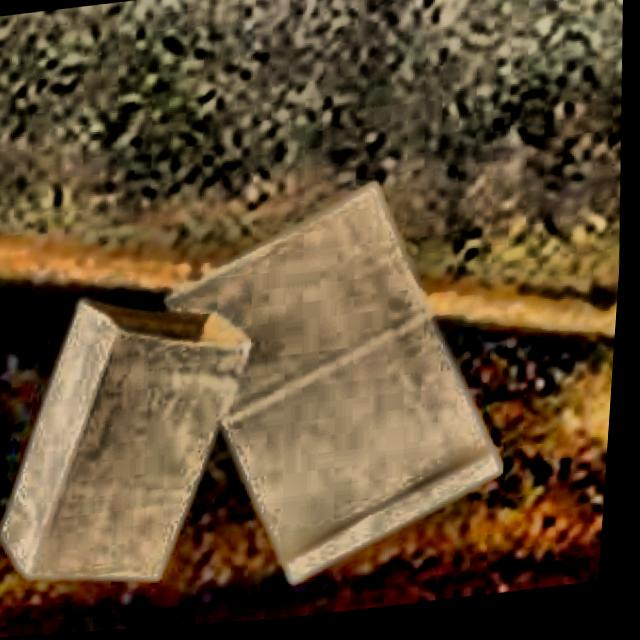Paper-bag: (122, 168, 534, 605), (0, 254, 305, 615)
